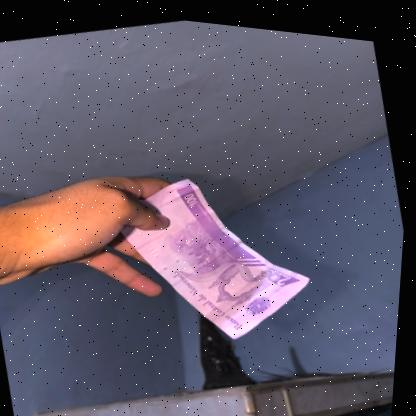vef_back: (105, 141, 331, 364)
